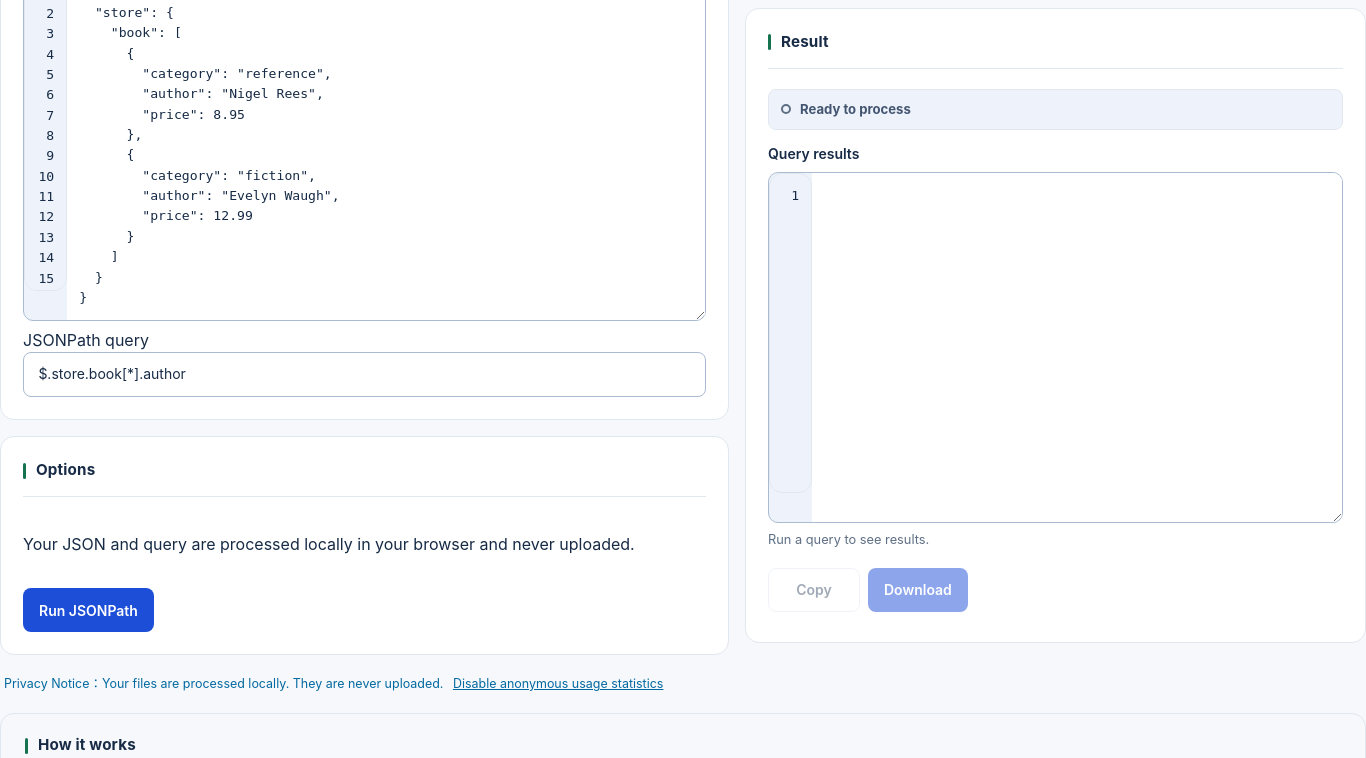
Test: JsonPathTesterPage › associates JSONPath syntax errors with the query field
(page scrolled)
Type "$.store[" into the field labelled "JSONPath query".
click(364, 375); type("$.store[")  # box [23,352,706,397]
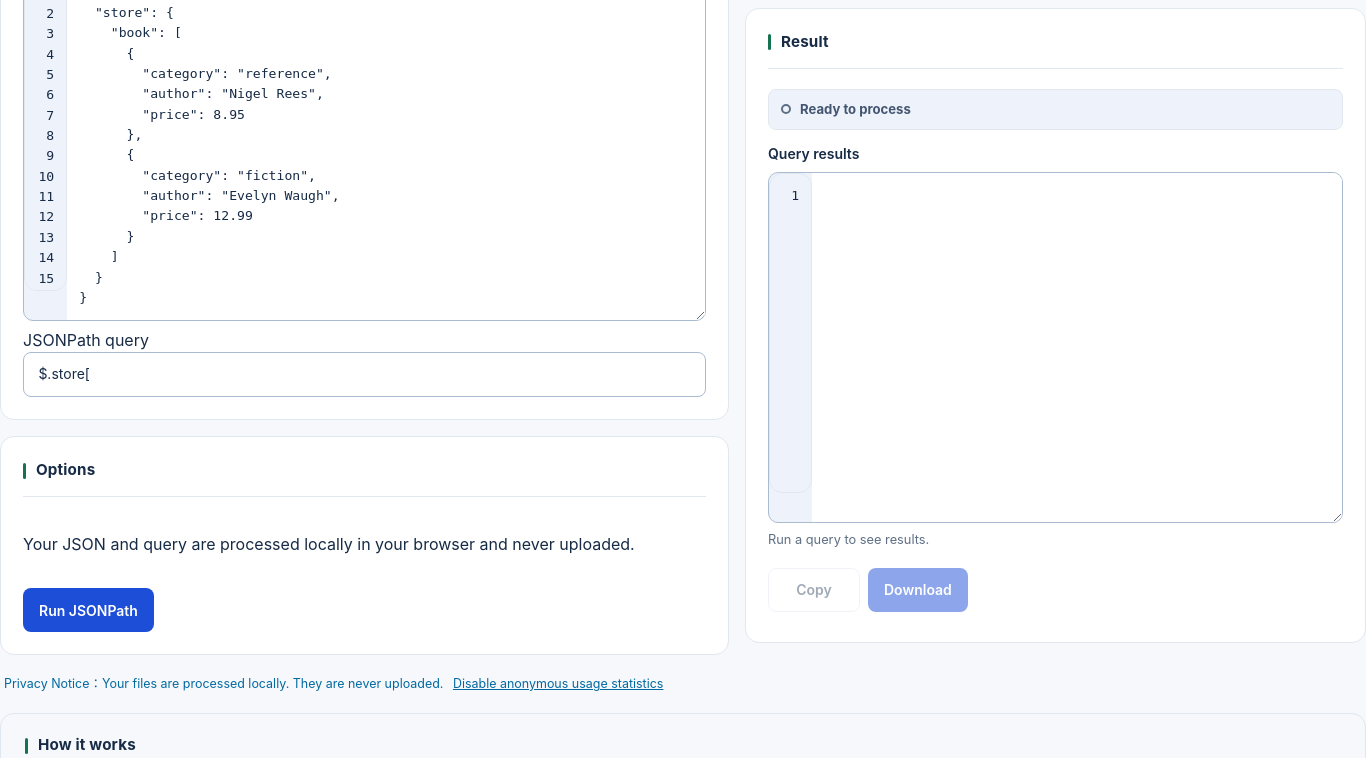
Click the button "Run JSONPath".
click(88, 610)  # box [23,588,154,632]
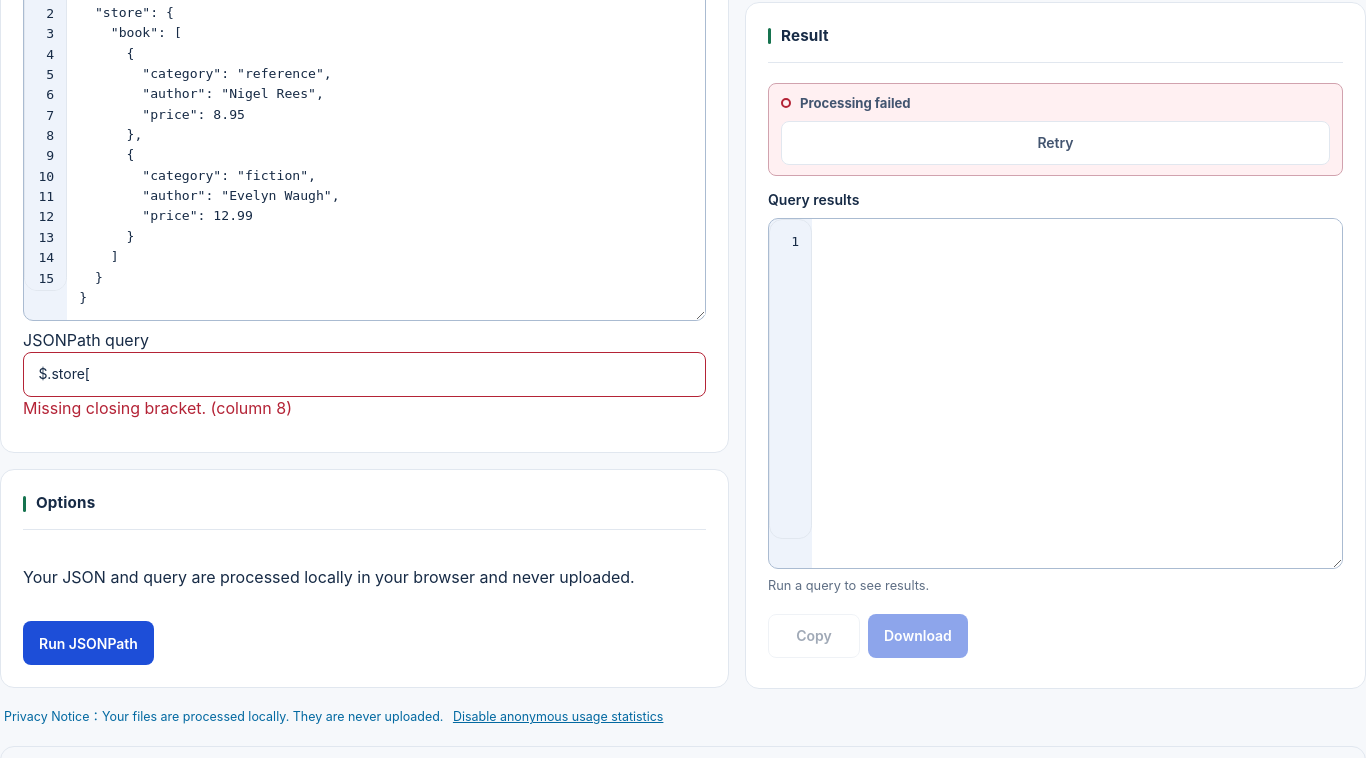
expect the message "Missing closing bracket. (column 8)" is shown: met, box [23,398,292,418]
